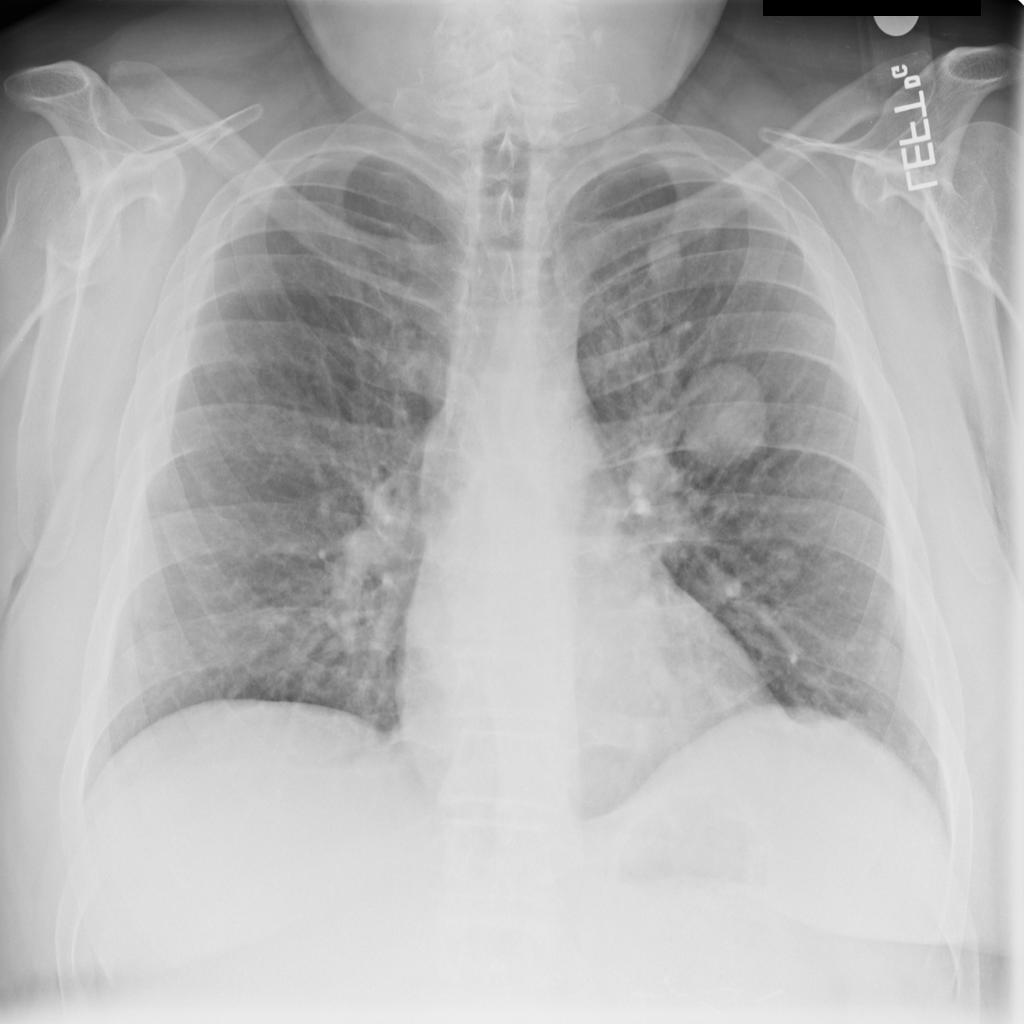nodule: (682, 355, 780, 480), (632, 220, 698, 296), (751, 527, 818, 600)
